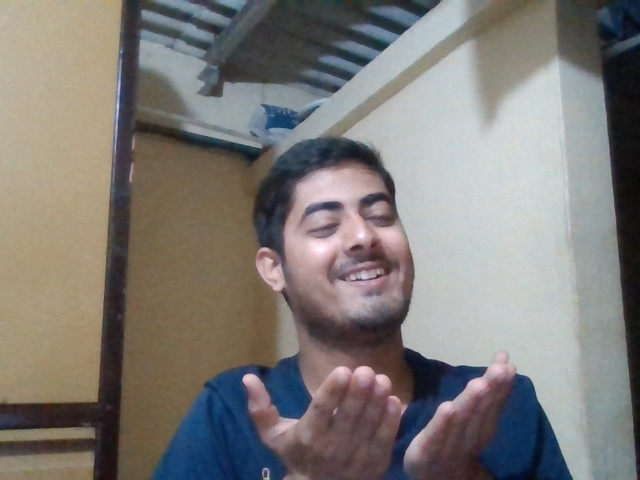ThankYou: (241, 351, 520, 479)
